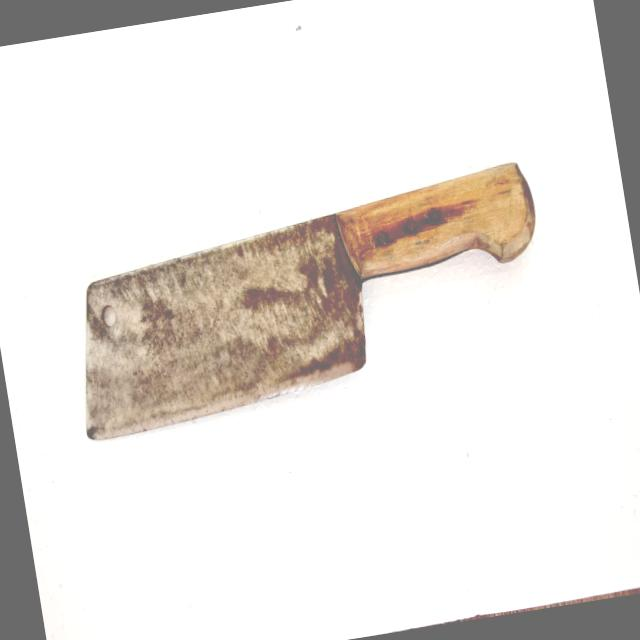cleaver: (57, 167, 550, 439)
